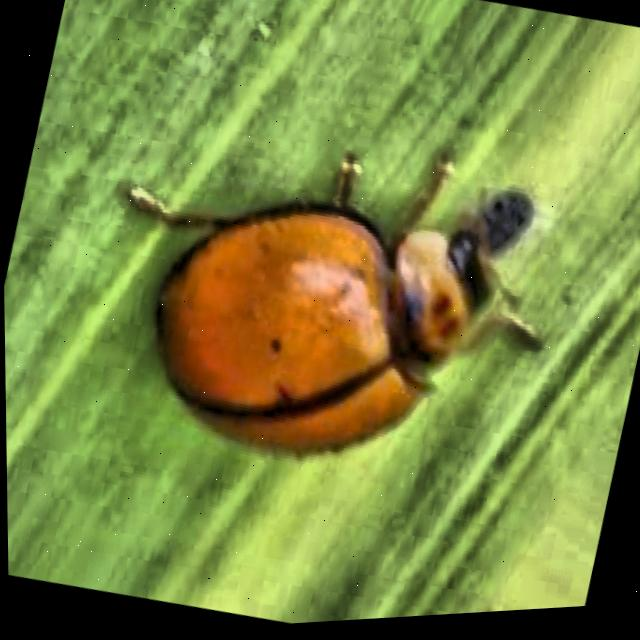Ladybug: (36, 32, 622, 559)
